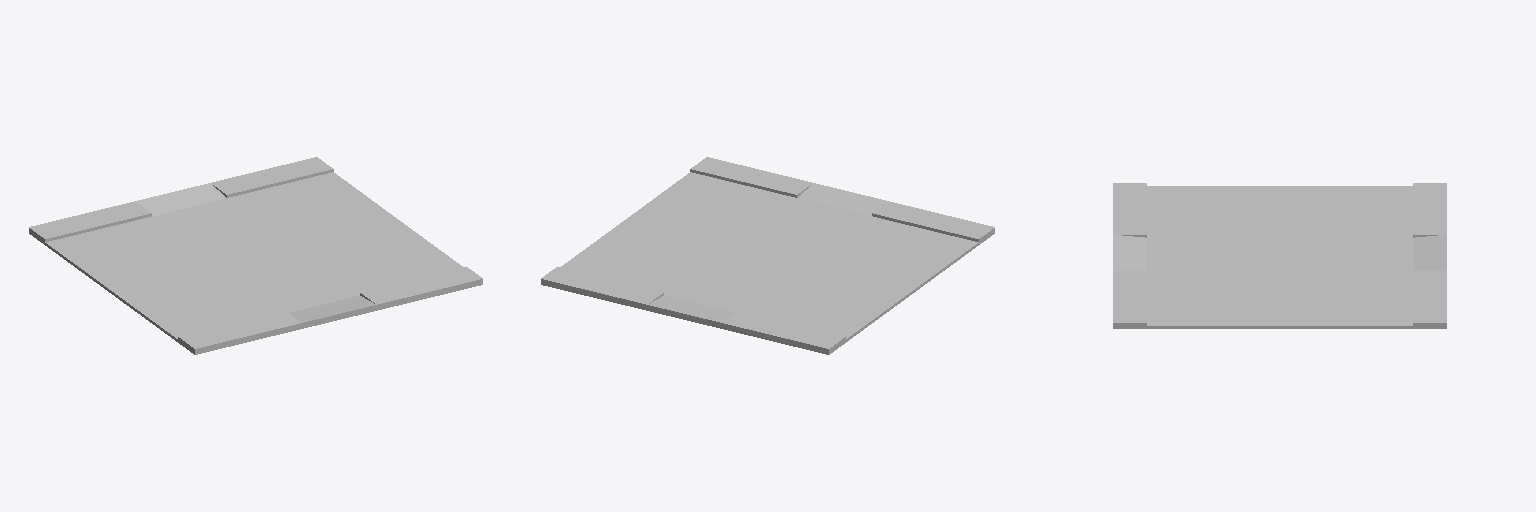
File: road_drivewayDouble.obj
3 renders of one model, left to right at view 1: azimuth 30°, elevation 25°; view 2: azimuth 150°, elevation 25°; view 3: azimuth 270°, elevation 25°, orthographic.
Visible parts, largest first — view 1: road_drivewayDouble; view 2: road_drivewayDouble; view 3: road_drivewayDouble.
Part boxes in pixels (left/top/right/bottom): road_drivewayDouble: left=29, top=157, right=482, bottom=354; road_drivewayDouble: left=541, top=157, right=994, bottom=354; road_drivewayDouble: left=1113, top=183, right=1446, bottom=328.
Size of the model in its own units: 1 by 0.02 by 1.